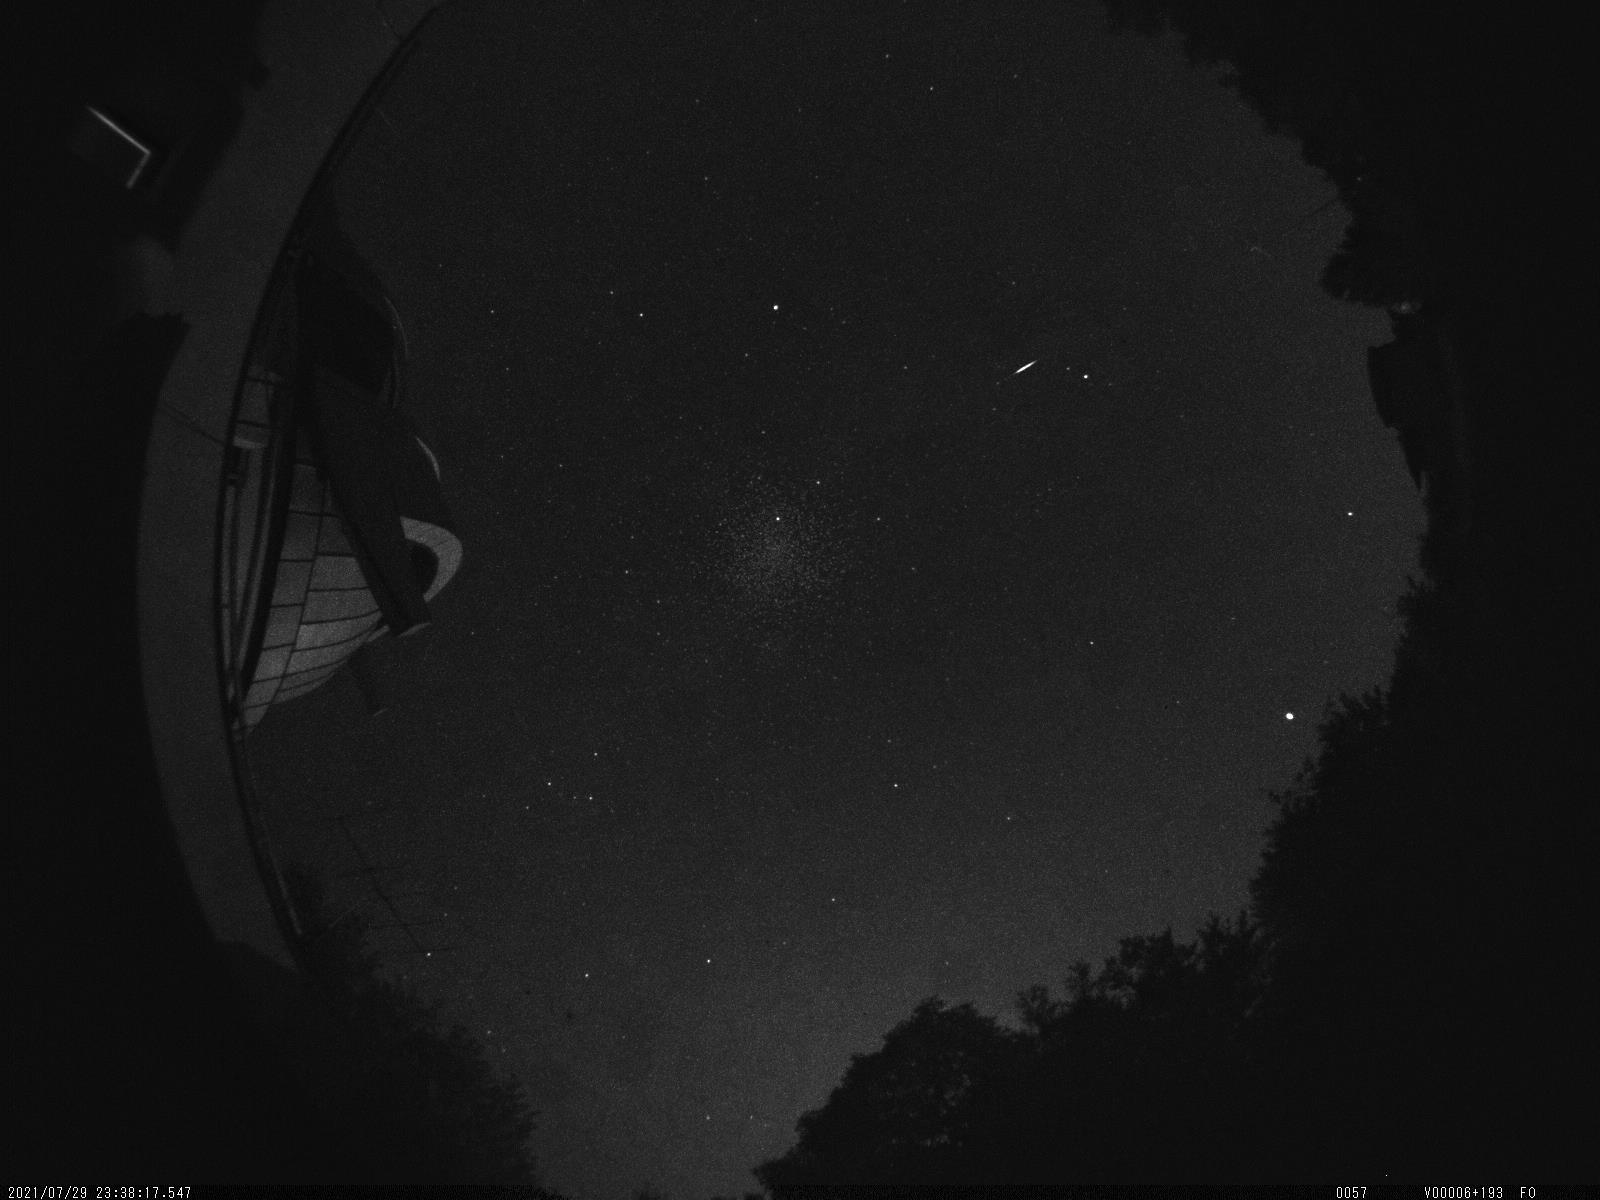Meteor: (998, 347, 1047, 390)
